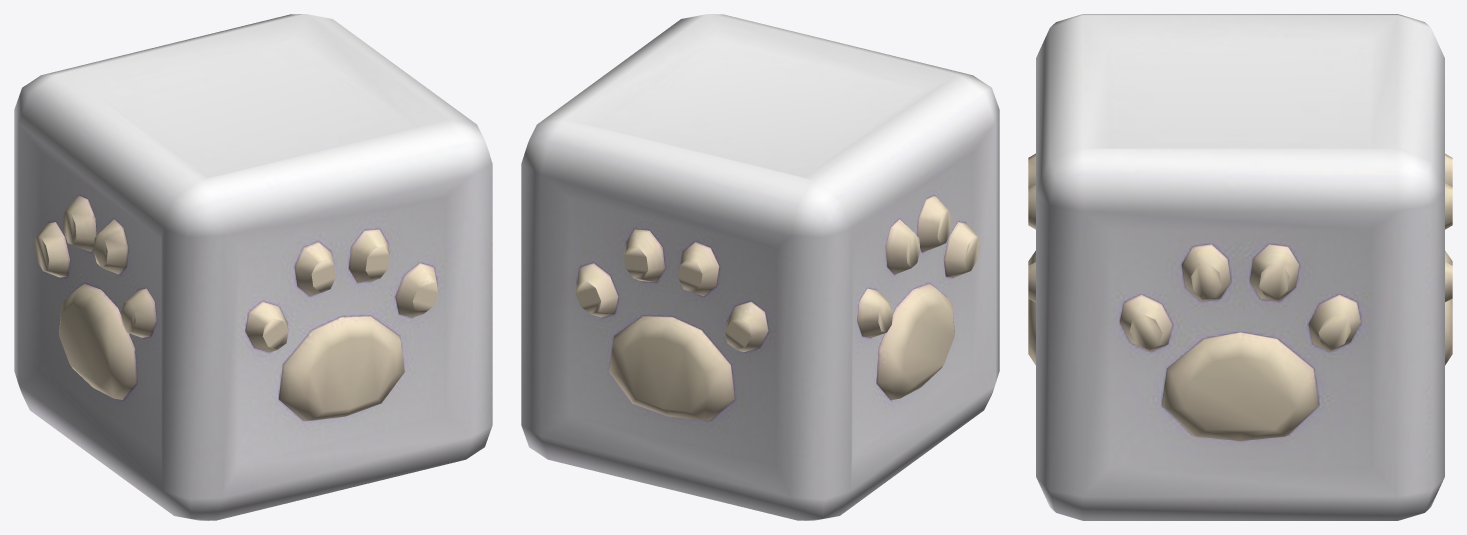
The model's file is pl_kup.glb.
3 renders of one model, left to right at view 1: azimuth 30°, elevation 25°; view 2: azimuth 150°, elevation 25°; view 3: azimuth 270°, elevation 25°, orthographic. The views are drawn at different scales.
Visible parts, largest first — view 1: pl_kup; view 2: pl_kup; view 3: pl_kup.
Boxes of the visible parts, x1=… form: pl_kup: x1=14, y1=14, x2=492, y2=520; pl_kup: x1=521, y1=14, x2=999, y2=520; pl_kup: x1=1028, y1=14, x2=1452, y2=520.
Size of the model in its own units: 1.6 by 1.54 by 1.6.
Materials: 1 (1 with a texture image).
